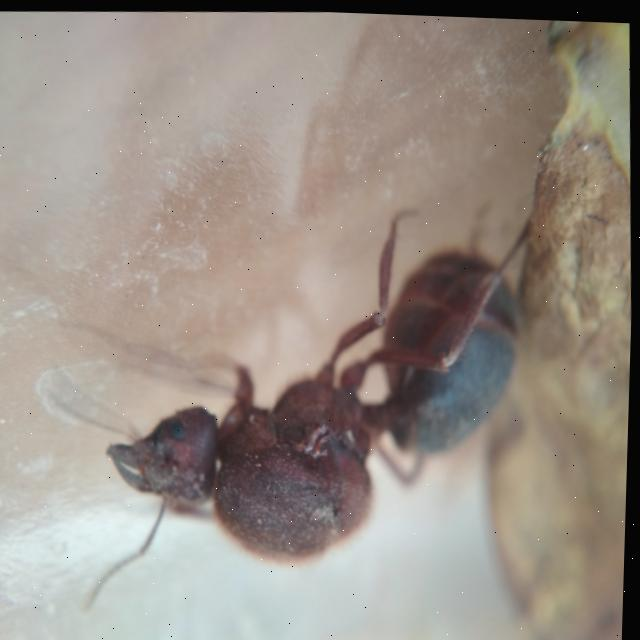Alive-Female-Dealate: (43, 179, 550, 627)
